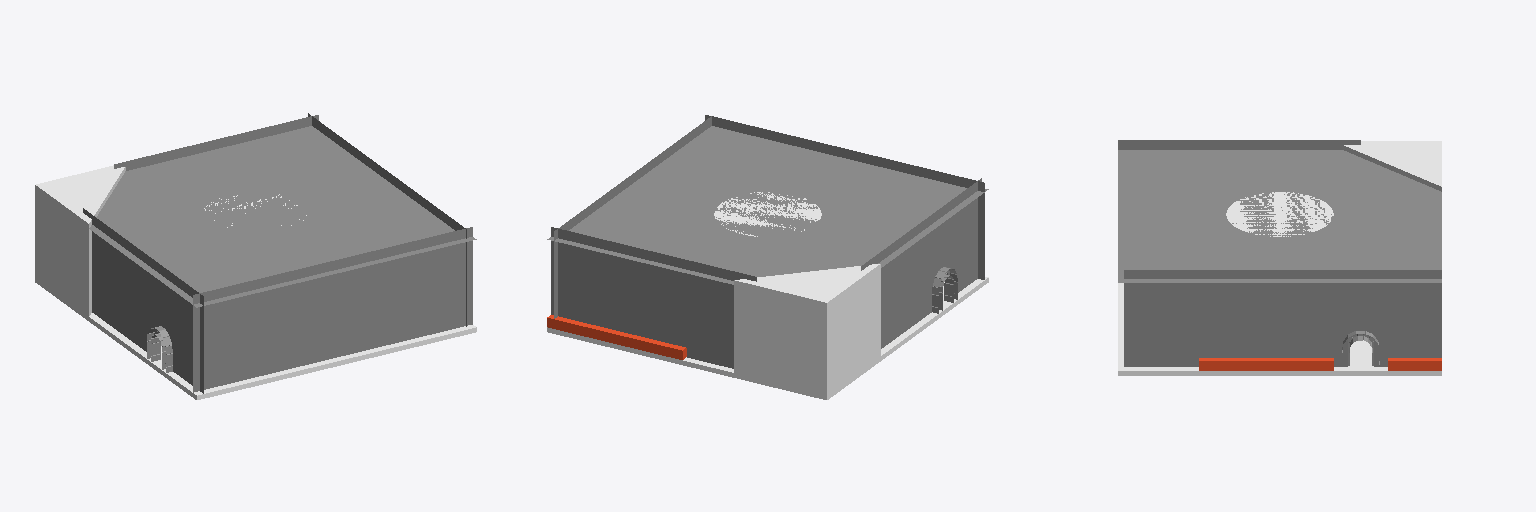
File: bigBend.obj
The picture shows the model from 3 angles: view 1: azimuth 30°, elevation 25°; view 2: azimuth 150°, elevation 25°; view 3: azimuth 270°, elevation 25°; orthographic projection.
Visible parts, largest first — view 1: struct_ceiling_14, struct_wall_main_half_8, slope_default_26, struct_wall_main_half_23, block_default_0, struct_wall_main_half_22, slope_default_25, struct_wall_main_half_11, struct_wall_main_half_12, struct_door_20, struct_wall_main_half_21; view 2: struct_ceiling_14, struct_wall_main_half_11, slope_default_26, slope_default_25, struct_wall_main_half_23, struct_wall_main_half_8, block_default_0, struct_wall_main_half_22, open_block_15, struct_wall_main_half_12, cylinder_full_24, struct_door_20 (+1 smaller); view 3: struct_ceiling_14, struct_wall_main_half_12, struct_wall_main_half_7, block_default_0, slope_default_26, struct_wall_main_half_23, cylinder_full_24, struct_wall_main_half_6, struct_door_4, open_block_16, open_block_15.
Part boxes in pixels (bbox=[...]): struct_ceiling_14: bbox=[89, 126, 476, 307]; struct_wall_main_half_8: bbox=[193, 227, 472, 392]; slope_default_26: bbox=[35, 165, 125, 271]; struct_wall_main_half_23: bbox=[83, 208, 203, 344]; block_default_0: bbox=[35, 279, 476, 399]; struct_wall_main_half_22: bbox=[92, 264, 149, 351]; slope_default_25: bbox=[35, 234, 91, 320]; struct_wall_main_half_11: bbox=[114, 115, 318, 170]; struct_wall_main_half_12: bbox=[308, 113, 466, 277]; struct_door_20: bbox=[147, 306, 176, 373]; struct_wall_main_half_21: bbox=[177, 326, 203, 393]; struct_ceiling_14: bbox=[547, 126, 988, 284]; struct_wall_main_half_11: bbox=[551, 227, 756, 368]; slope_default_26: bbox=[734, 264, 880, 351]; slope_default_25: bbox=[734, 313, 880, 399]; struct_wall_main_half_23: bbox=[861, 178, 981, 299]; struct_wall_main_half_8: bbox=[705, 115, 984, 279]; block_default_0: bbox=[547, 277, 988, 399]; struct_wall_main_half_22: bbox=[881, 267, 927, 348]; open_block_15: bbox=[547, 315, 686, 359]; struct_wall_main_half_12: bbox=[554, 116, 711, 279]; cylinder_full_24: bbox=[714, 192, 821, 236]; struct_door_20: bbox=[928, 247, 957, 314]; struct_ceiling_14: bbox=[1118, 150, 1441, 282]; struct_wall_main_half_12: bbox=[1124, 270, 1441, 317]; struct_wall_main_half_7: bbox=[1124, 318, 1333, 366]; block_default_0: bbox=[1118, 283, 1441, 375]; slope_default_26: bbox=[1342, 141, 1441, 191]; struct_wall_main_half_23: bbox=[1118, 140, 1360, 149]; cylinder_full_24: bbox=[1226, 192, 1333, 236]; struct_wall_main_half_6: bbox=[1388, 318, 1441, 357]; struct_door_4: bbox=[1334, 318, 1387, 366]; open_block_16: bbox=[1199, 358, 1333, 370]; open_block_15: bbox=[1388, 358, 1441, 370].
Size of the model in its own units: 6 by 2.1 by 6.